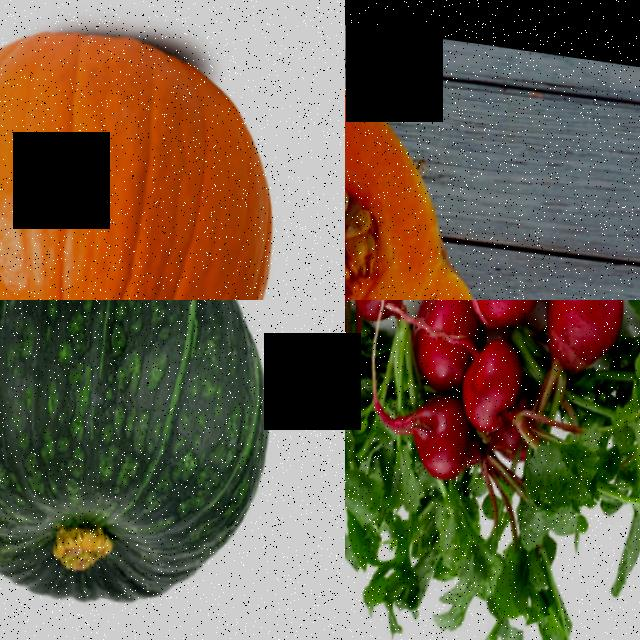pumpkin: (0, 300, 294, 616), (0, 0, 307, 300), (345, 58, 536, 300)
radishes: (405, 300, 640, 506), (345, 300, 425, 432)
